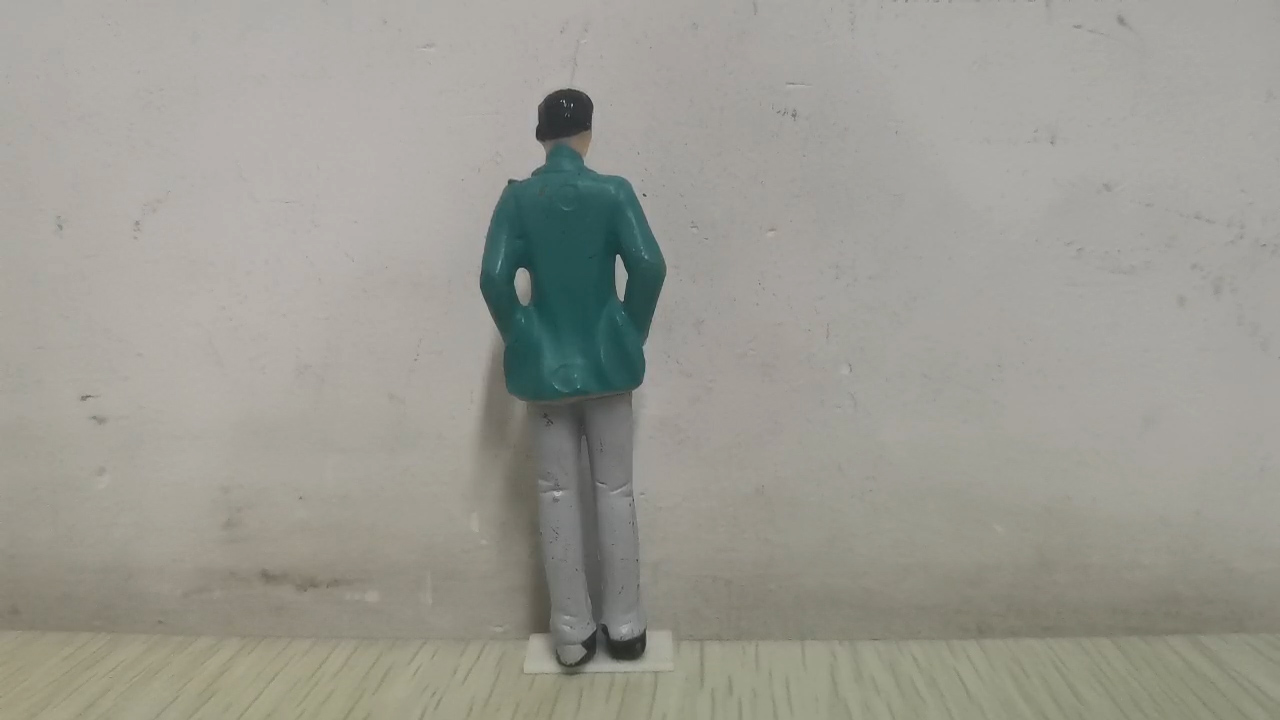person: (475, 86, 670, 670)
